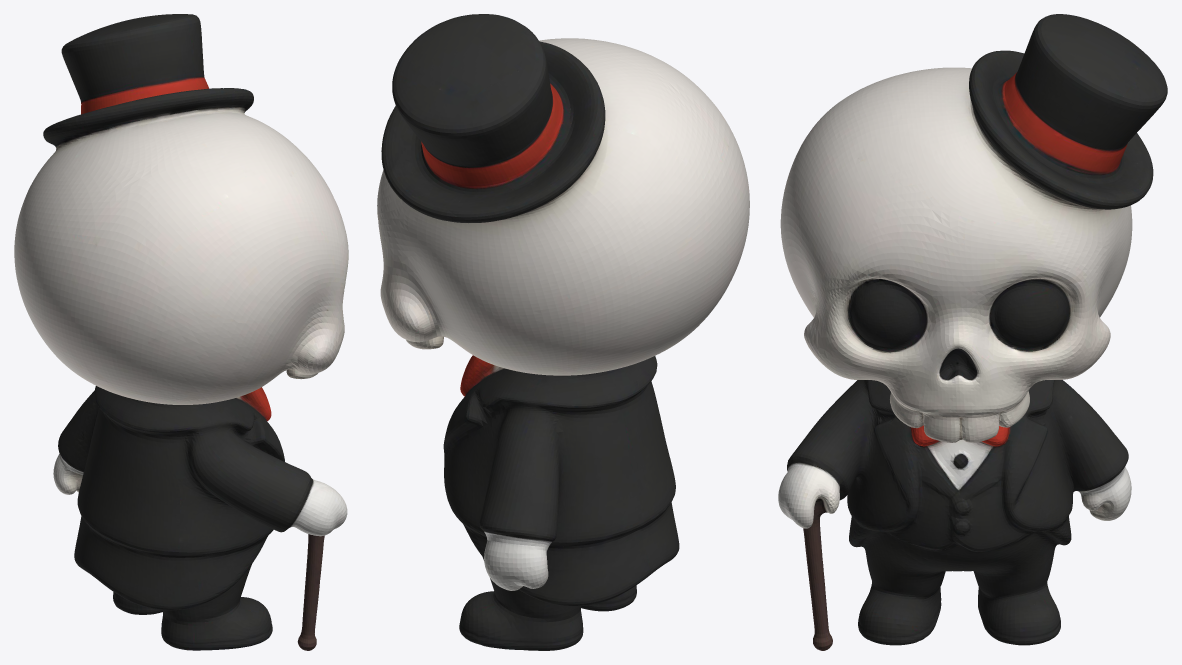
File: special-01.glb
3 renders of one model, left to right at view 1: azimuth 30°, elevation 25°; view 2: azimuth 150°, elevation 25°; view 3: azimuth 270°, elevation 25°, orthographic. The views are drawn at different scales.
Parts seen in each view (by area): view 1: tripo_node_cee8f1d9-2c09-46b8-8cfd-5bc4d22aedd2; view 2: tripo_node_cee8f1d9-2c09-46b8-8cfd-5bc4d22aedd2; view 3: tripo_node_cee8f1d9-2c09-46b8-8cfd-5bc4d22aedd2.
Boxes of the visible parts, x1,y1,x2,y2 form: tripo_node_cee8f1d9-2c09-46b8-8cfd-5bc4d22aedd2: (14, 14, 348, 650); tripo_node_cee8f1d9-2c09-46b8-8cfd-5bc4d22aedd2: (377, 14, 749, 650); tripo_node_cee8f1d9-2c09-46b8-8cfd-5bc4d22aedd2: (778, 14, 1167, 650).
Size of the model in its own units: 0.5316 by 0.9998 by 0.5888.
Materials: 1 (1 with a texture image).
